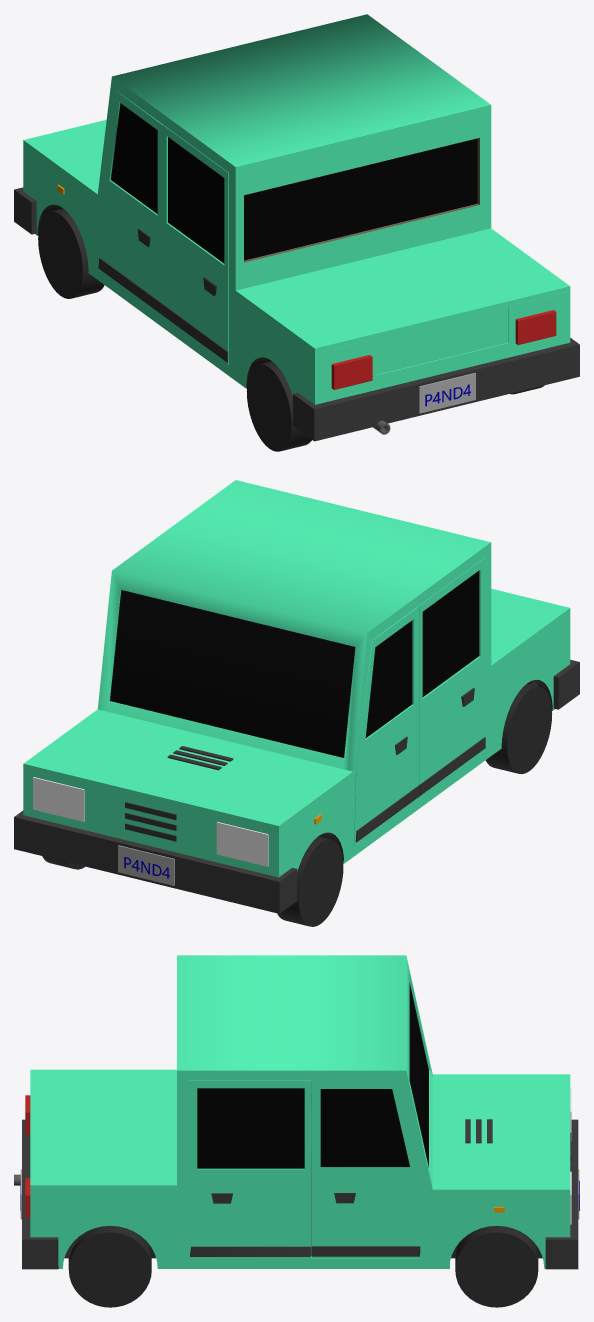
File: normal_car.fbx
The picture shows the model from 3 angles, top to bottom: view 1: azimuth 30°, elevation 25°; view 2: azimuth 150°, elevation 25°; view 3: azimuth 270°, elevation 25°; orthographic projection. The views are drawn at different scales.
Parts seen in each view (by area): view 1: Body, Openthing, BackWindow, BAgagliaio, Paraurti_1, Cofano_1, BackDoor_2, FrontDoor_2, Window_4, Wheel_2_2, Window_5, Wheel_1 (+6 smaller); view 2: Body, Cofano_1, Window, Paraurti, FrontDoor_2, BackDoor_2, BAgagliaio, Window_4, Wheel_1, Window_5, Wheel_2_2, Openthing (+8 smaller); view 3: Body, Cofano_1, Openthing, BackDoor, FrontDoor, Window_2, BAgagliaio, Window_3, Wheel_1_2, Wheel_2, Paraurti_1, Paraurti (+3 smaller).
Part boxes in pixels (x1,y1,x2,y2): Body: (88,14,491,375); Openthing: (235,228,570,374); BackWindow: (244,138,477,260); BAgagliaio: (229,291,570,404); Paraurti_1: (293,338,579,441); Cofano_1: (23,120,106,282); BackDoor_2: (163,125,228,365); FrontDoor_2: (98,91,162,317); Window_4: (168,137,224,263); Wheel_2_2: (38,208,104,298); Window_5: (111,103,157,213); Wheel_1: (246,361,311,451); Body: (97,480,491,863); Cofano_1: (23,709,359,877); Window: (110,590,355,757); Paraurti: (14,810,297,913); FrontDoor_2: (354,606,418,846); BackDoor_2: (418,558,484,798); BAgagliaio: (484,613,570,760); Window_4: (422,570,479,696); Wheel_1: (485,683,551,774); Window_5: (365,620,412,737); Wheel_2_2: (277,836,343,926); Openthing: (490,588,570,670); Body: (177,955,449,1268); Cofano_1: (420,1074,570,1268); Openthing: (30,1069,176,1189); BackDoor: (189,1080,310,1258); FrontDoor: (311,1080,420,1258); Window_2: (197,1088,304,1168); BAgagliaio: (30,1189,189,1268); Window_3: (320,1089,409,1167); Wheel_1_2: (455,1226,538,1307); Wheel_2: (68,1226,151,1307); Paraurti_1: (22,1119,87,1269); Paraurti: (545,1119,578,1269).
Bounding box in the file's own units: 260 × 238 × 518.
